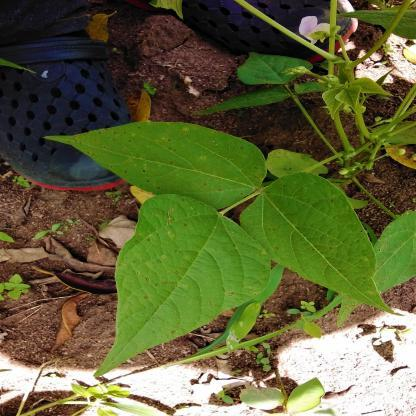Beans_Angular_LeafSpot: (106, 193, 263, 348), (244, 180, 396, 300), (70, 122, 251, 204)
